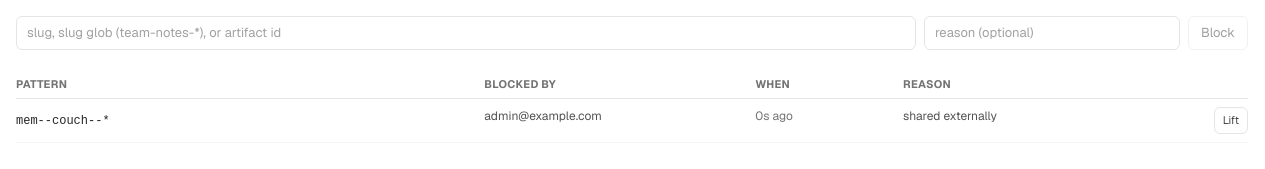
Scenario: BlocksManager › lists what a pattern hides on demand, linking each document to its review page
Click the button "mem--couch--*" at {"x": 63, "y": 121}, box [16,112,110,130]
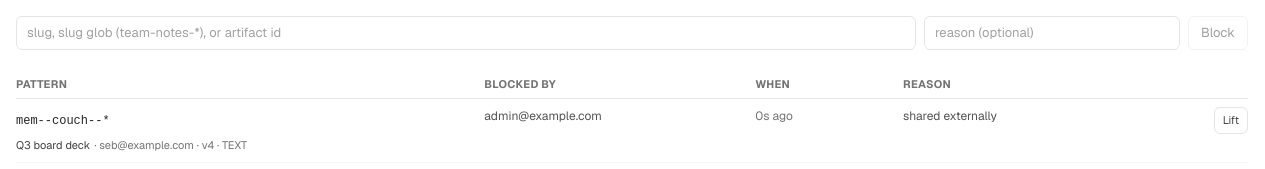
Result: the text "Q3 board deck" is shown at [16,138,90,152]
